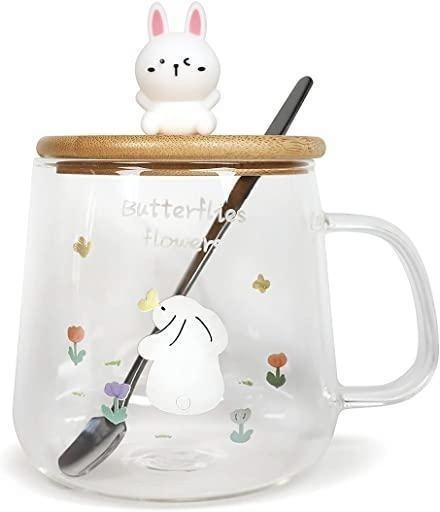glass-mug: (7, 124, 440, 512)
